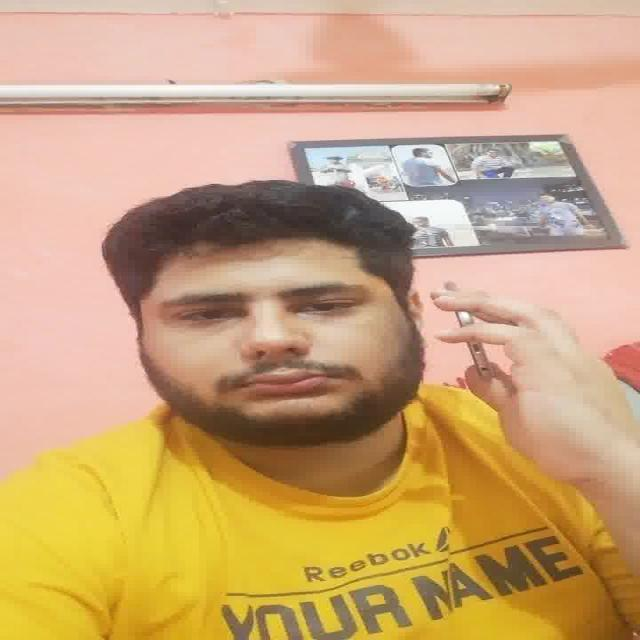Phone: (456, 305, 492, 381)
